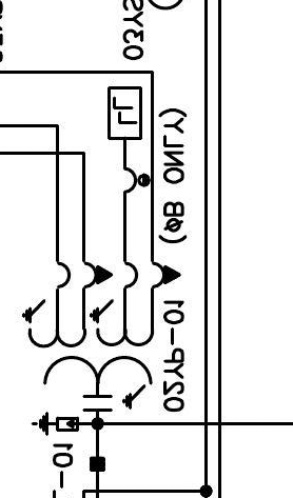115_cvt_1p: (21, 259, 182, 413)
115_la: (31, 411, 80, 436)
LL: (107, 86, 143, 140)
